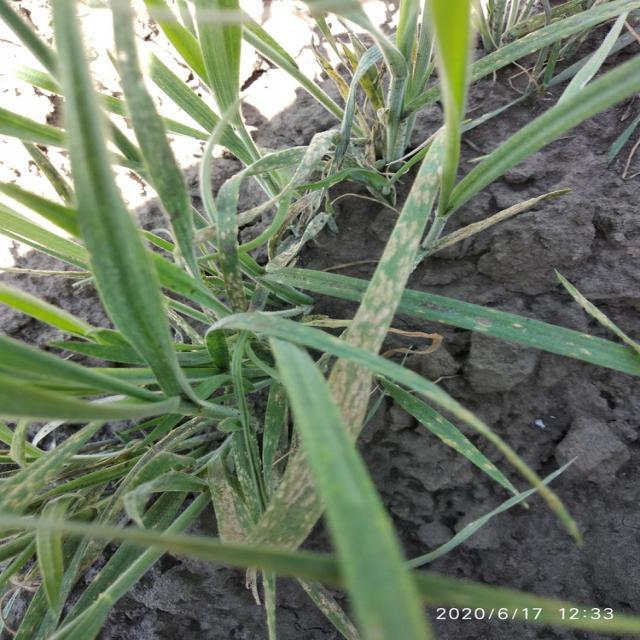wheat-powdery-mildew: (345, 124, 449, 348), (205, 443, 326, 545), (330, 356, 372, 440)
